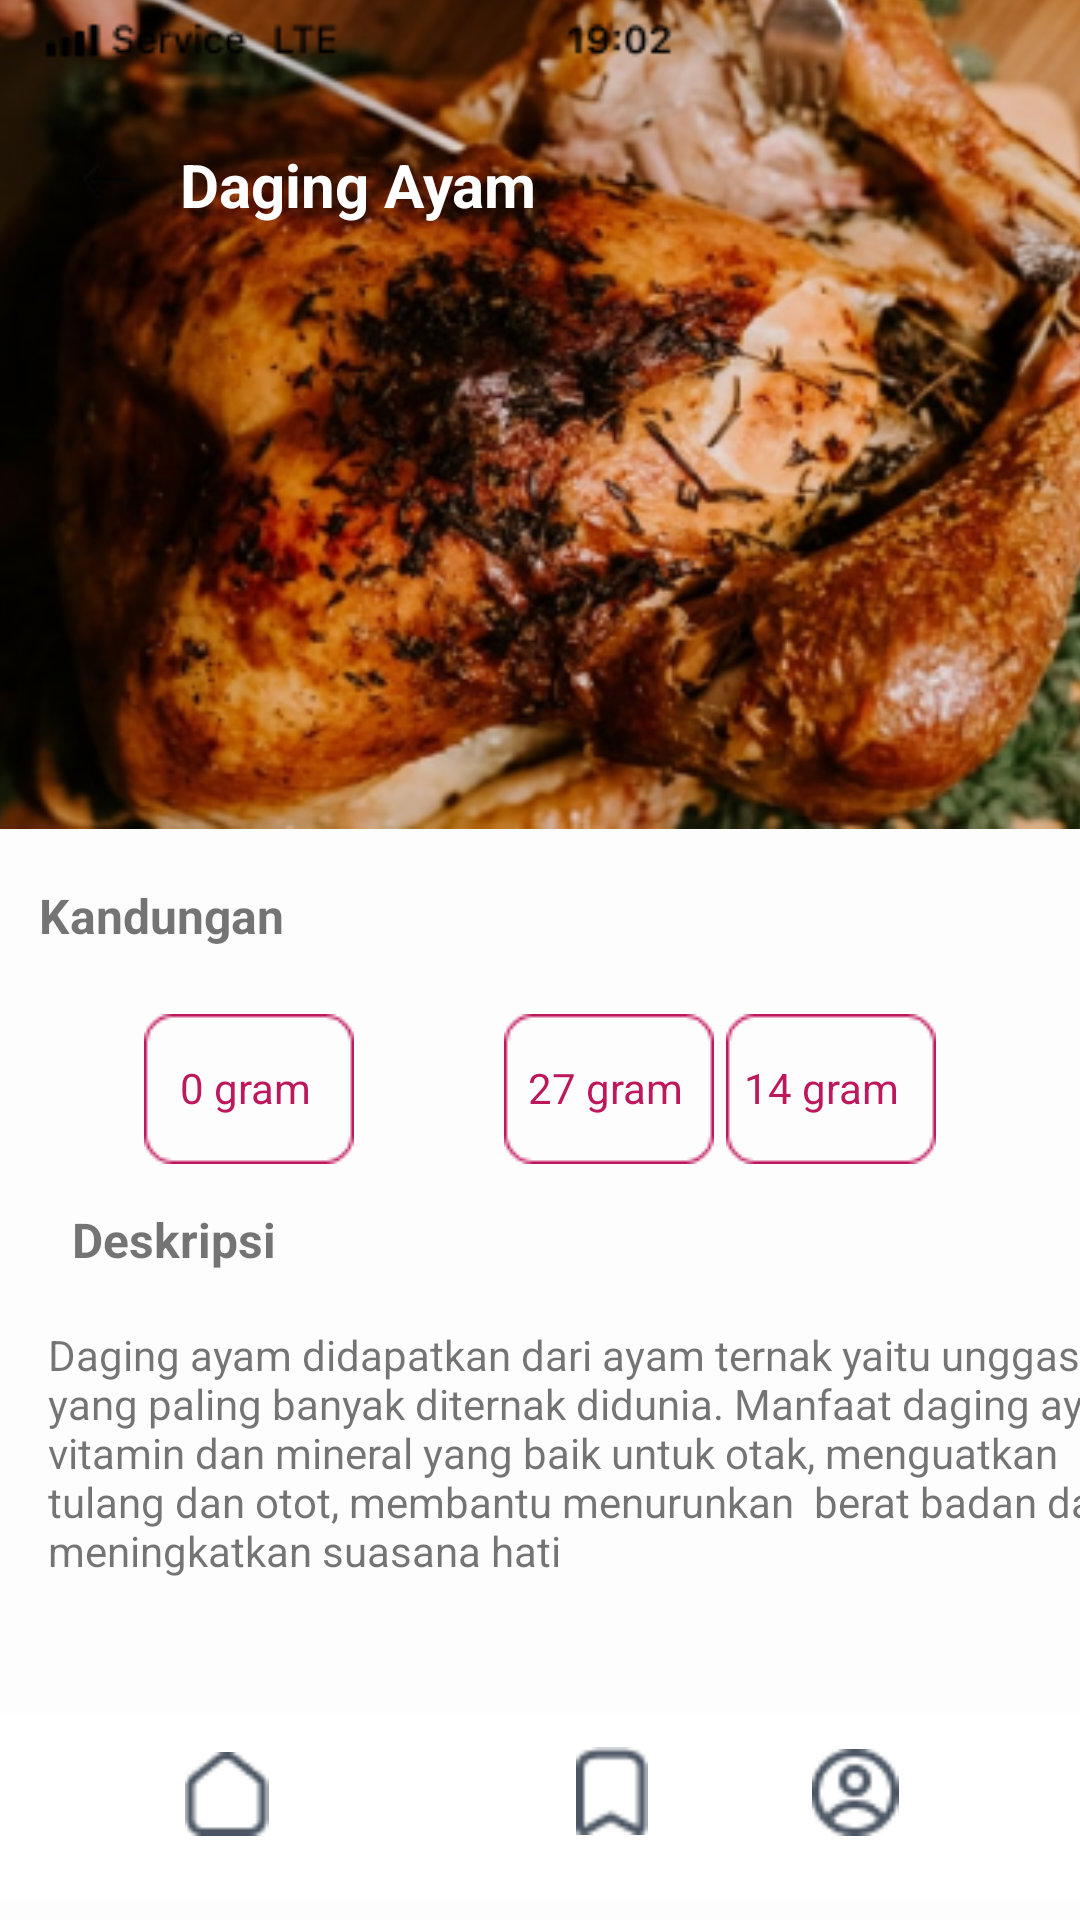

Icons on this 1080x1920 Android screen, each with the point to tap as [x,y]:
homee: [227,1794]
simpan: [612,1791]
